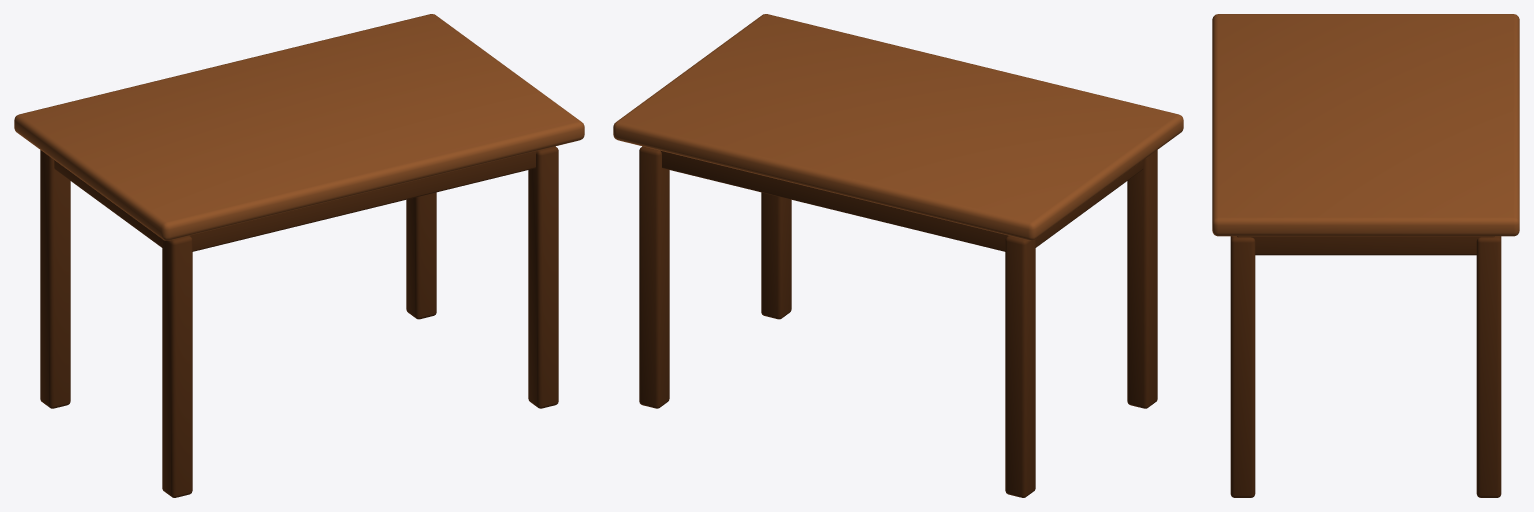
Rendered from table.glb.
3 views of the same model, side by side, from view 1: azimuth 30°, elevation 25°; view 2: azimuth 150°, elevation 25°; view 3: azimuth 270°, elevation 25° (orthographic).
Visible parts, largest first — view 1: table; view 2: table; view 3: table.
Part boxes in pixels (x1,y1,x2,y2): table: (14, 14, 584, 497); table: (613, 14, 1183, 497); table: (1212, 14, 1519, 497).
Bounding box in the file's own units: 1.2 × 0.775 × 0.75.
